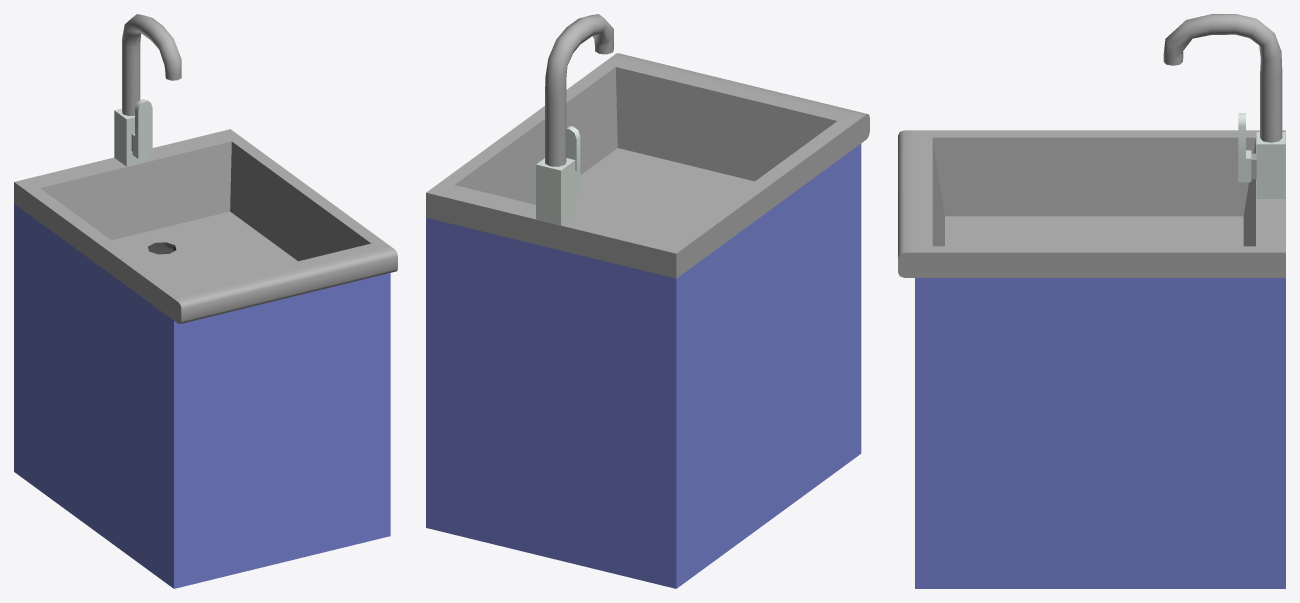
The model's file is KitchenTable_sink.fbx.
3 renders of one model, left to right at view 1: azimuth 30°, elevation 25°; view 2: azimuth 150°, elevation 25°; view 3: azimuth 270°, elevation 25°, orthographic. The views are drawn at different scales.
Visible parts, largest first — view 1: Cube.004, Cube.005, Cube.006; view 2: Cube.004, Cube.005, Cube.006; view 3: Cube.004, Cube.005, Cube.006.
Part boxes in pixels (<box>): Cube.004: <box>14,129,397,588</box>; Cube.005: <box>122,14,181,115</box>; Cube.006: <box>114,99,152,166</box>; Cube.004: <box>426,53,869,588</box>; Cube.005: <box>545,14,613,166</box>; Cube.006: <box>536,126,580,225</box>; Cube.004: <box>898,130,1285,588</box>; Cube.005: <box>1163,14,1282,142</box>; Cube.006: <box>1238,113,1285,198</box>.
Size of the model in its own units: 78.13 by 153 by 105.
